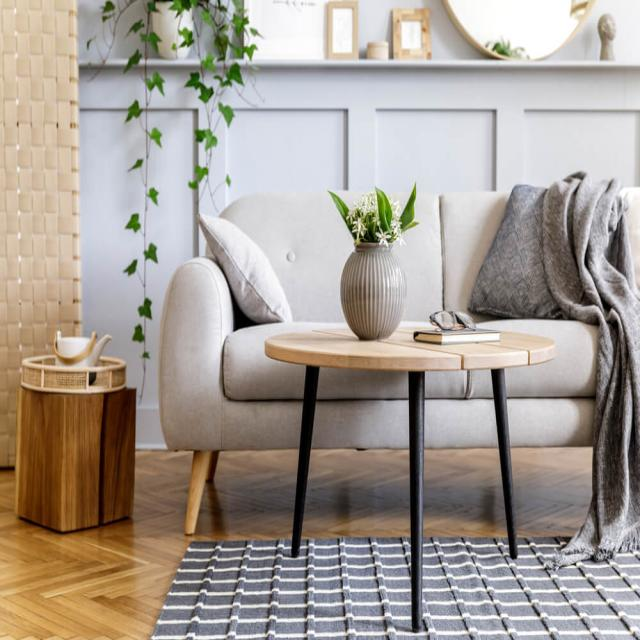modern desk: (265, 320, 561, 625)
modern sofa: (155, 180, 640, 535)
